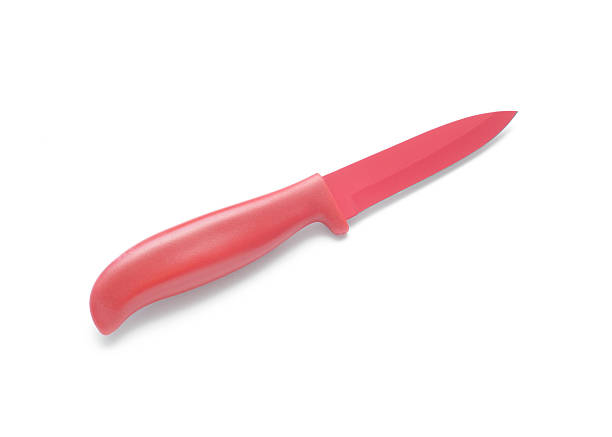knife: (88, 107, 520, 337)
